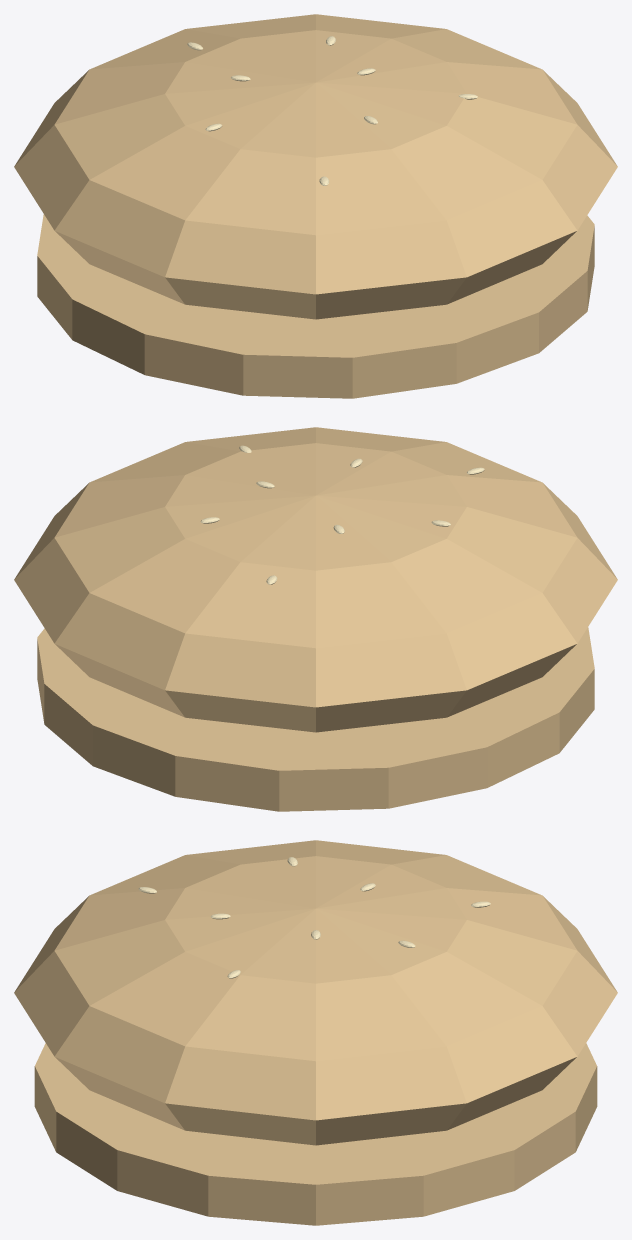
File: Hamburger_Bun_Raw.fbx
3 renders of one model, top to bottom at view 1: azimuth 30°, elevation 25°; view 2: azimuth 150°, elevation 25°; view 3: azimuth 270°, elevation 25°, orthographic.
Parts seen in each view (by area): view 1: GPV2_Bread_Raw_Upper_Bread, GPV2_Bread_Raw_Lower_Bread, GPV2_Bread_Raw; view 2: GPV2_Bread_Raw_Upper_Bread, GPV2_Bread_Raw_Lower_Bread, GPV2_Bread_Raw; view 3: GPV2_Bread_Raw_Upper_Bread, GPV2_Bread_Raw_Lower_Bread, GPV2_Bread_Raw.
Boxes of the visible parts, x1,y1,x2,y2 form: GPV2_Bread_Raw_Upper_Bread: (14, 14, 617, 319); GPV2_Bread_Raw_Lower_Bread: (37, 214, 594, 398); GPV2_Bread_Raw: (187, 36, 477, 185); GPV2_Bread_Raw_Upper_Bread: (14, 427, 617, 732); GPV2_Bread_Raw_Lower_Bread: (37, 627, 594, 811); GPV2_Bread_Raw: (200, 445, 484, 584); GPV2_Bread_Raw_Upper_Bread: (14, 840, 617, 1145); GPV2_Bread_Raw_Lower_Bread: (34, 1043, 597, 1225); GPV2_Bread_Raw: (138, 857, 490, 978).
Bounding box in the file's own units: 0.29 × 0.1054 × 0.29.
